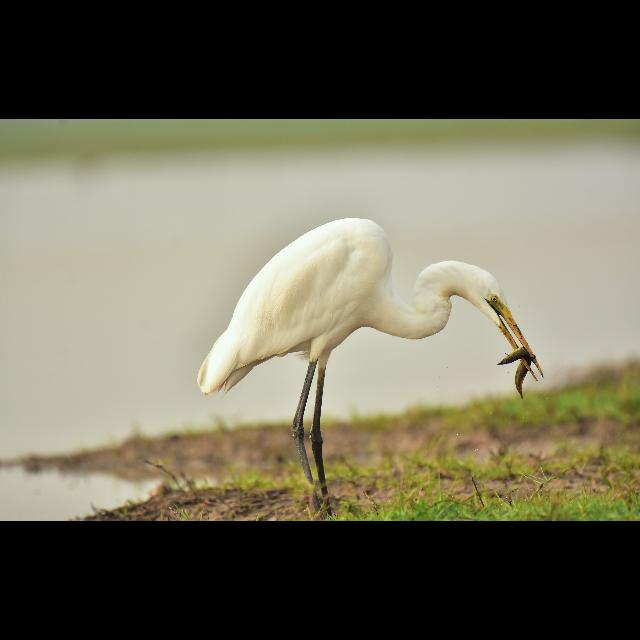egret: (199, 218, 545, 504)
